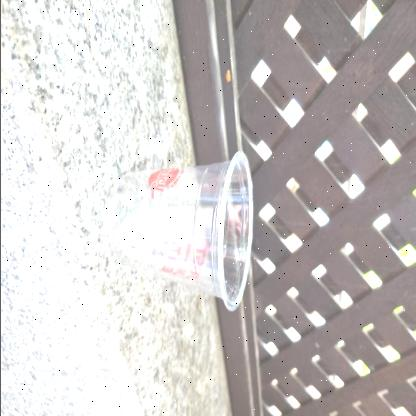Others: (104, 145, 260, 314)
